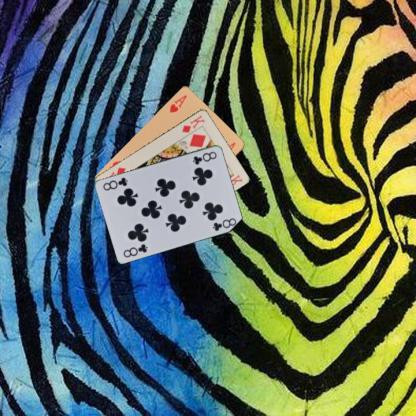8c: (190, 148, 218, 166), (121, 241, 149, 258)
Ah: (167, 92, 188, 114)
Kd: (179, 112, 206, 134)
